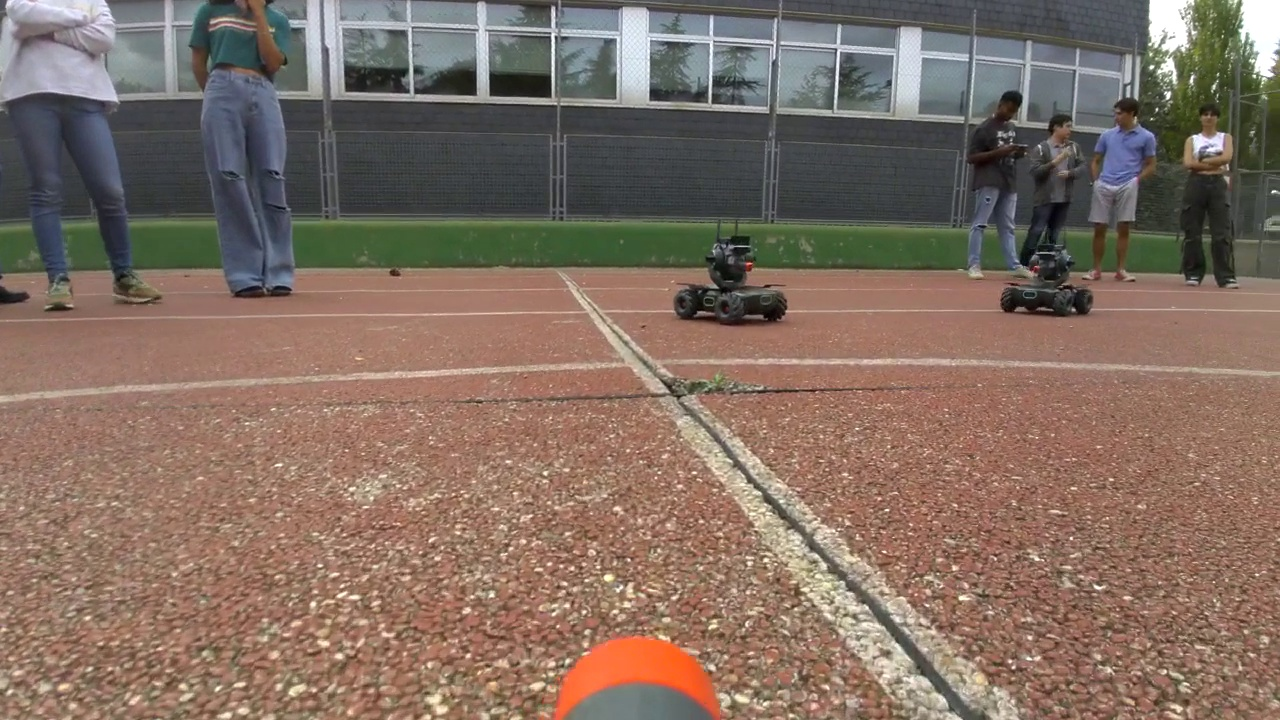robot: (674, 236, 787, 321), (999, 244, 1092, 315)
